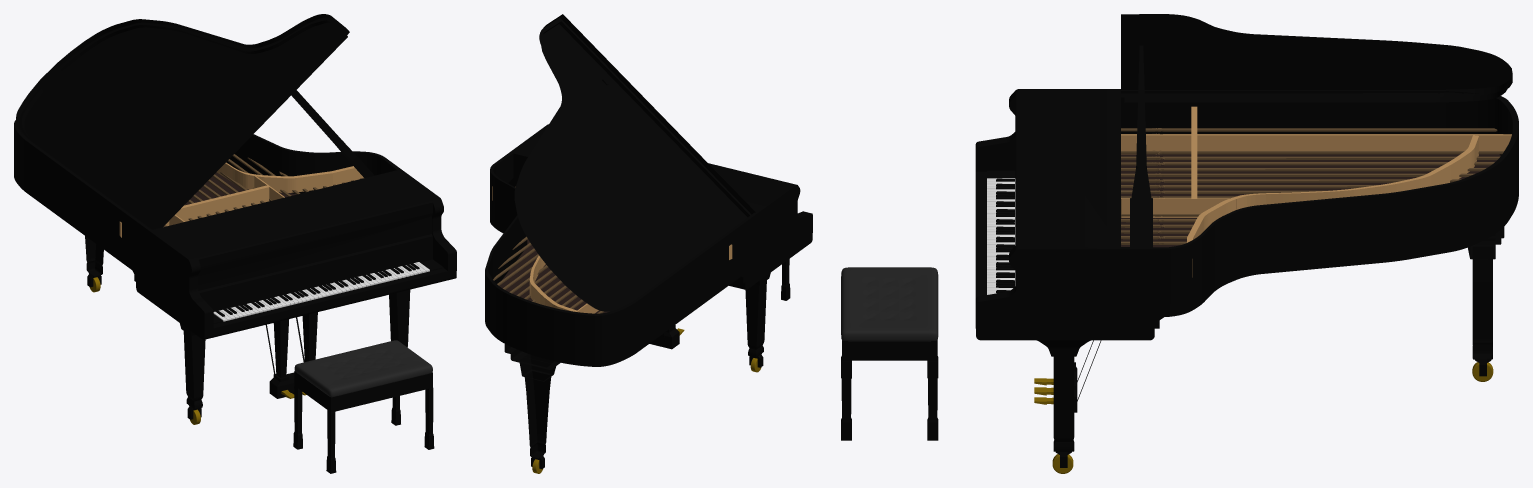
File: piano.fbx
3 renders of one model, left to right at view 1: azimuth 30°, elevation 25°; view 2: azimuth 150°, elevation 25°; view 3: azimuth 270°, elevation 25°, orthographic. The views are drawn at different scales.
Parts seen in each view (by area): view 1: piano, Cube.001, Plane.042, Cube.002, Cube, Plane.038, Plane.039, Plane, Plane.037; view 2: Cube.001, piano, Plane.038, Plane.042, Plane.039; view 3: piano, Cube.001, Plane.042, Cube.002, Plane.038, Cube, Plane.037, Plane, Plane.039.
Part boxes in pixels (box(x1,y1,x2,y2)): piano: box(14, 120, 456, 339); Cube.001: box(16, 14, 349, 229); Plane.042: box(119, 154, 363, 237); Cube.002: box(294, 340, 432, 397); Cube: box(293, 370, 434, 473); Plane.038: box(85, 236, 410, 419); Plane.039: box(265, 312, 317, 398); Plane: box(213, 262, 429, 321); Plane.037: box(285, 82, 374, 177); Cube.001: box(514, 14, 755, 311); piano: box(485, 124, 812, 366); Plane.038: box(504, 272, 770, 468); Plane.042: box(492, 186, 732, 313); Plane.039: box(649, 325, 684, 349); piano: box(975, 89, 1518, 340); Cube.001: box(1121, 14, 1512, 102); Plane.042: box(1121, 106, 1511, 277); Cube.002: box(841, 267, 938, 341); Plane.038: box(1037, 227, 1504, 467); Cube: box(841, 340, 938, 440); Plane.037: box(1130, 45, 1152, 247); Plane: box(987, 178, 1015, 294); Plane.039: box(1034, 340, 1101, 412).
Size of what is drawn, in the model's own units: 181 by 230 by 321.
